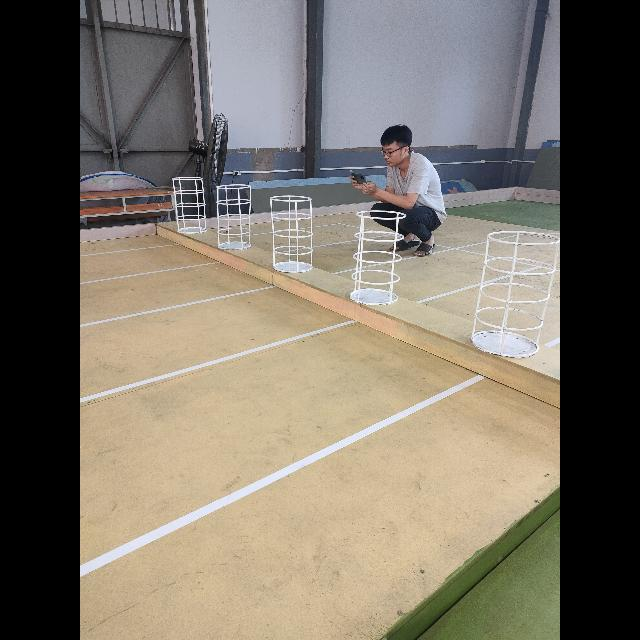S: (471, 230, 560, 358), (350, 210, 407, 304), (270, 194, 313, 273), (216, 184, 252, 251), (171, 177, 208, 233)
